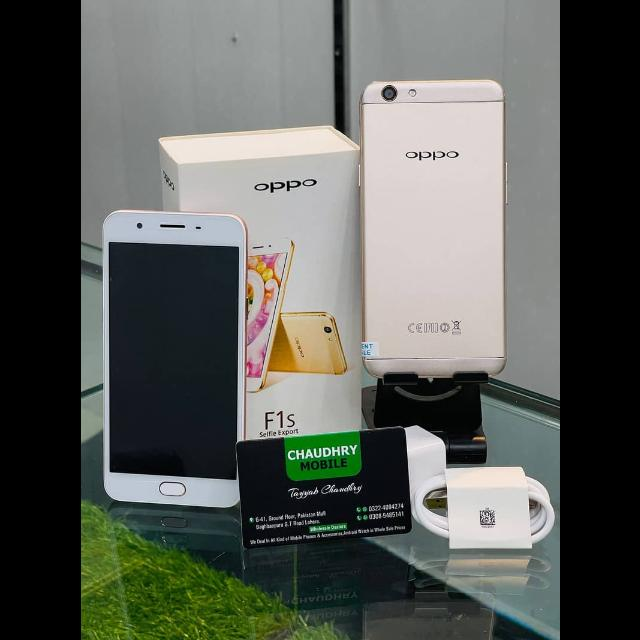Smartphone: (101, 210, 246, 509)
